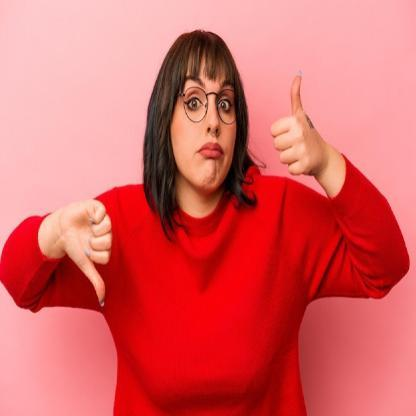thumb_down: (55, 197, 122, 308)
thumb_up: (266, 66, 326, 180)
